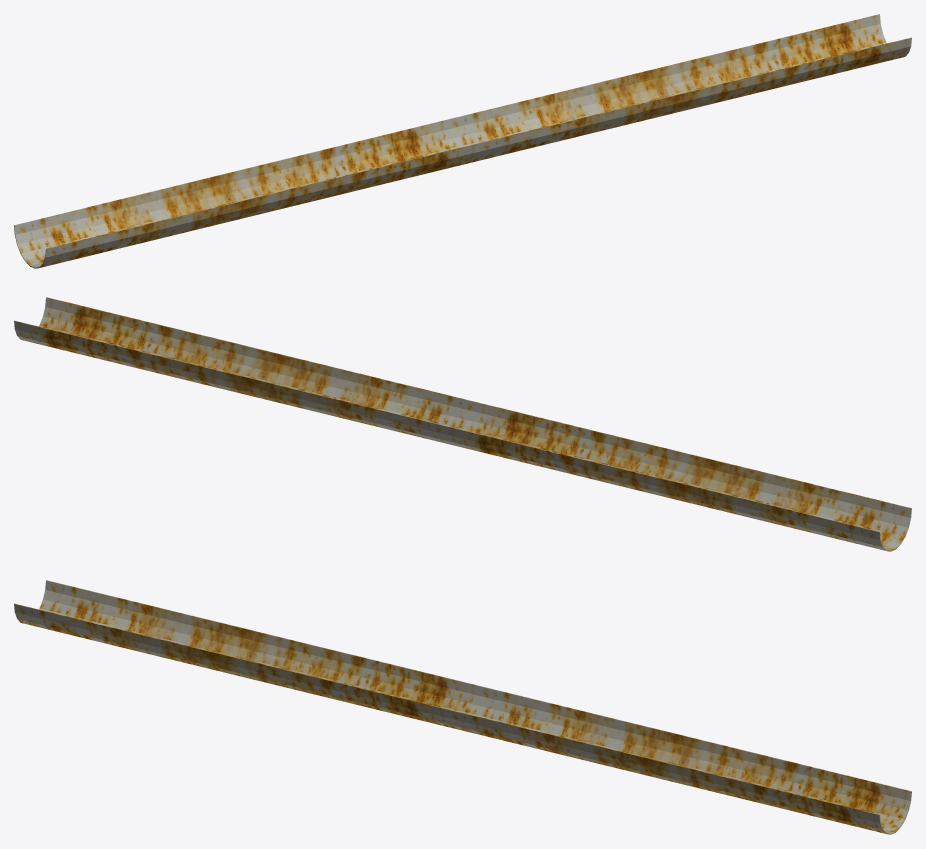
File: oluk_2m.gltf
3 views of the same model, one above another, from view 1: azimuth 30°, elevation 25°; view 2: azimuth 150°, elevation 25°; view 3: azimuth 330°, elevation 25° (orthographic).
Visible parts, largest first — view 1: oluk_2m; view 2: oluk_2m; view 3: oluk_2m.
Boxes of the visible parts, x1=… form: oluk_2m: x1=14, y1=14, x2=911, y2=268; oluk_2m: x1=14, y1=297, x2=911, y2=551; oluk_2m: x1=14, y1=580, x2=911, y2=834.
Size of what is drawn, in the model's own units: 2 by 0.065 by 0.13.
1 material, 1 textured.
